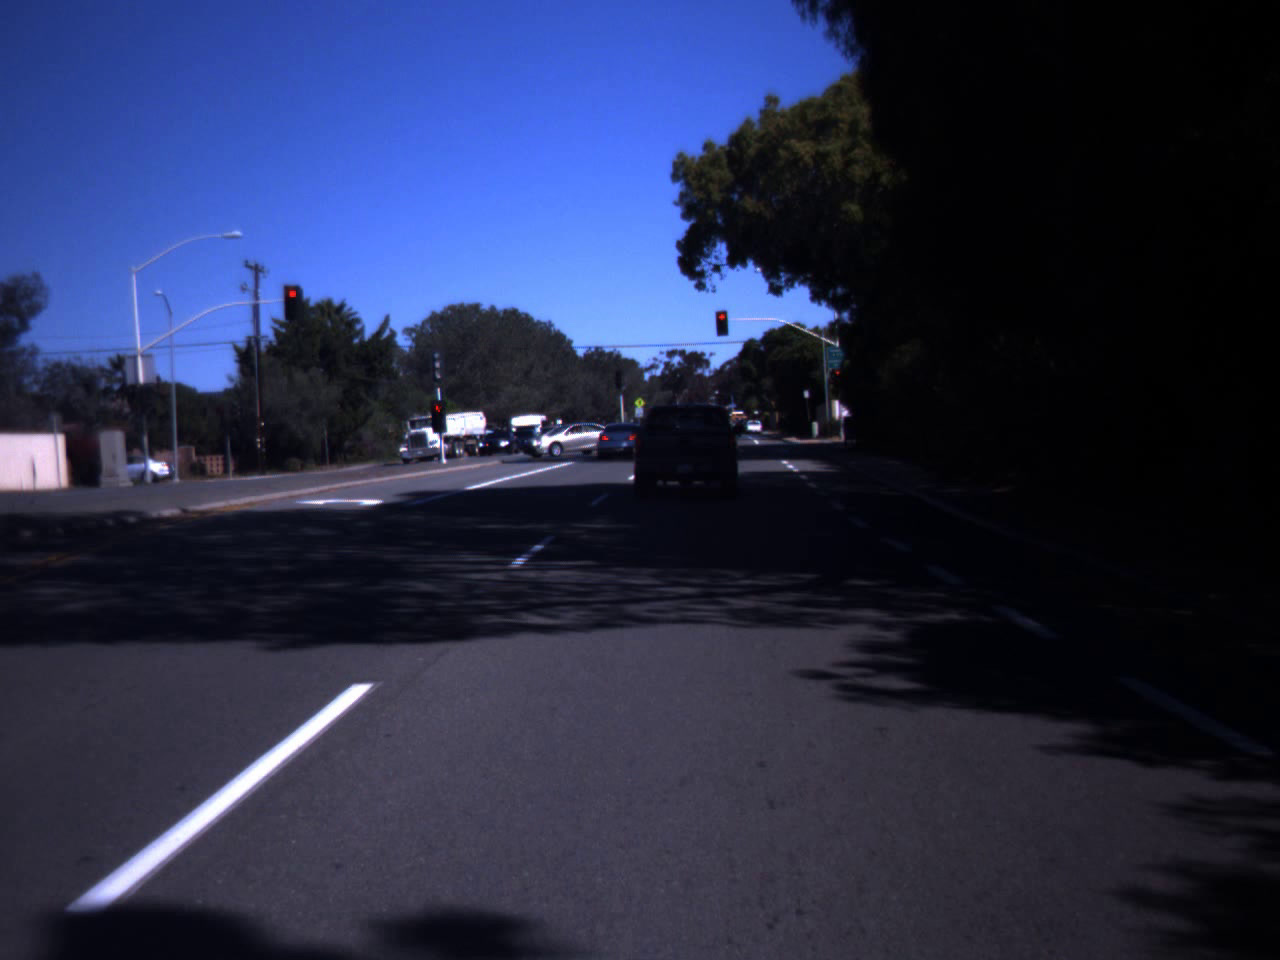stop: (284, 290, 302, 308), (716, 312, 728, 330), (833, 368, 844, 386)
